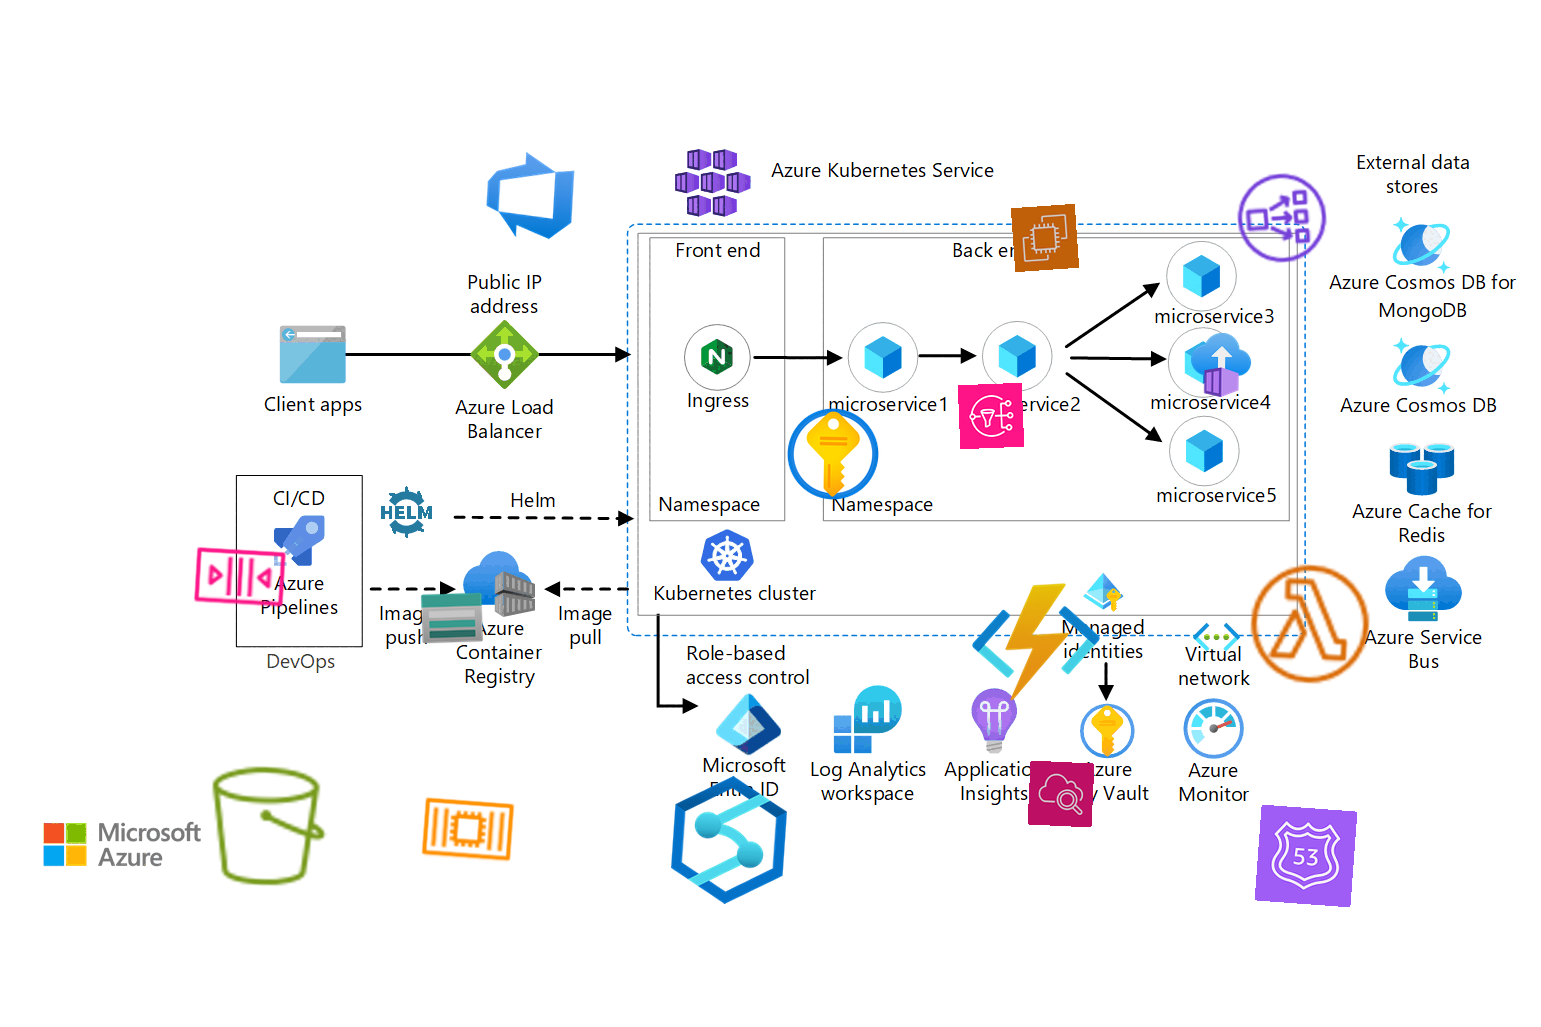aws_amazon_cloudwatch: (1027, 760, 1095, 828)
aws_amazon_ec2: (1011, 203, 1080, 273)
aws_amazon_route_53: (1255, 803, 1358, 908)
aws_amazon_simple_notification_service: (957, 382, 1025, 450)
aws_elastic_container_service_container_2: (416, 777, 520, 881)
aws_elastic_load_balancing_network_load_balancer: (1231, 166, 1334, 271)
aws_lambda_lambda_function: (1243, 557, 1377, 691)
aws_simple_queue_service_queue: (189, 525, 291, 627)
aws_simple_storage_service_s3_standard: (202, 760, 335, 892)
azure_container_instances: (1188, 332, 1255, 398)
azure_devops: (479, 144, 581, 246)
azure_function_apps: (968, 574, 1104, 710)
azure_key_vaults: (784, 405, 882, 503)
azure_storage_accounts: (418, 585, 486, 652)
azure_synapse_analytics: (660, 771, 799, 909)
